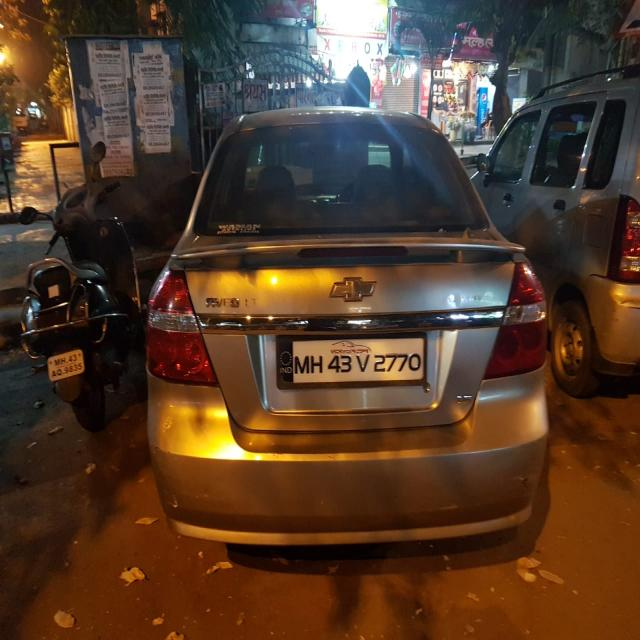Number-Plate: (278, 339, 427, 385)
